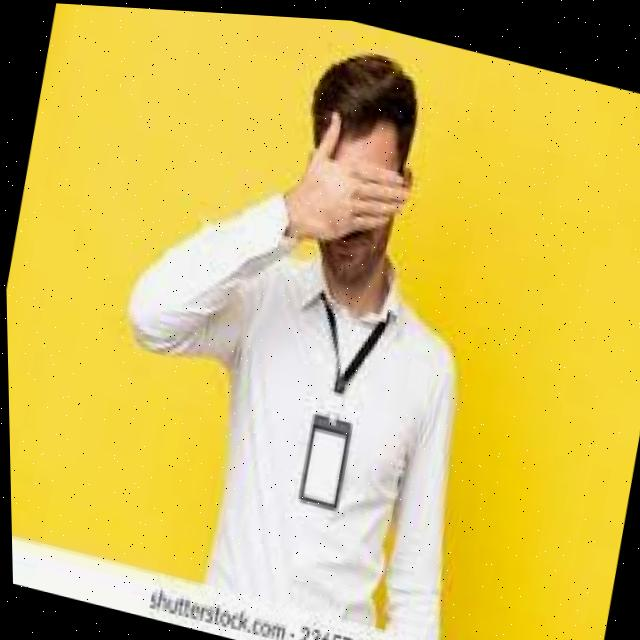id_card: (268, 282, 402, 528)
